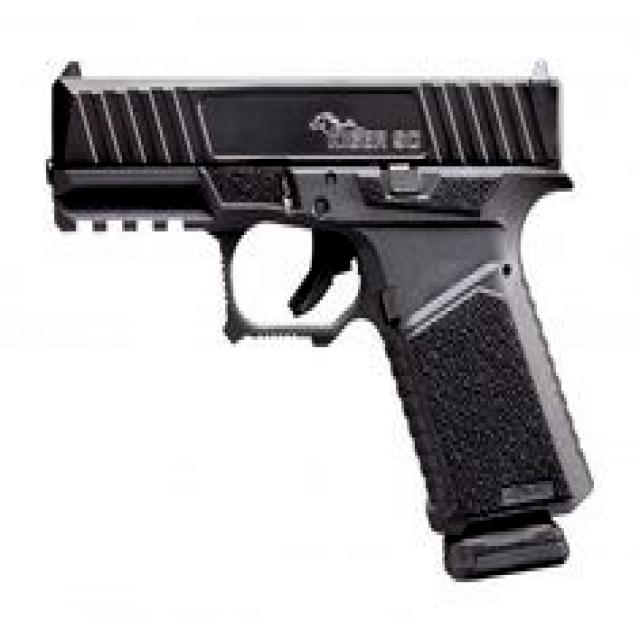semi automatic: (32, 43, 607, 613)
